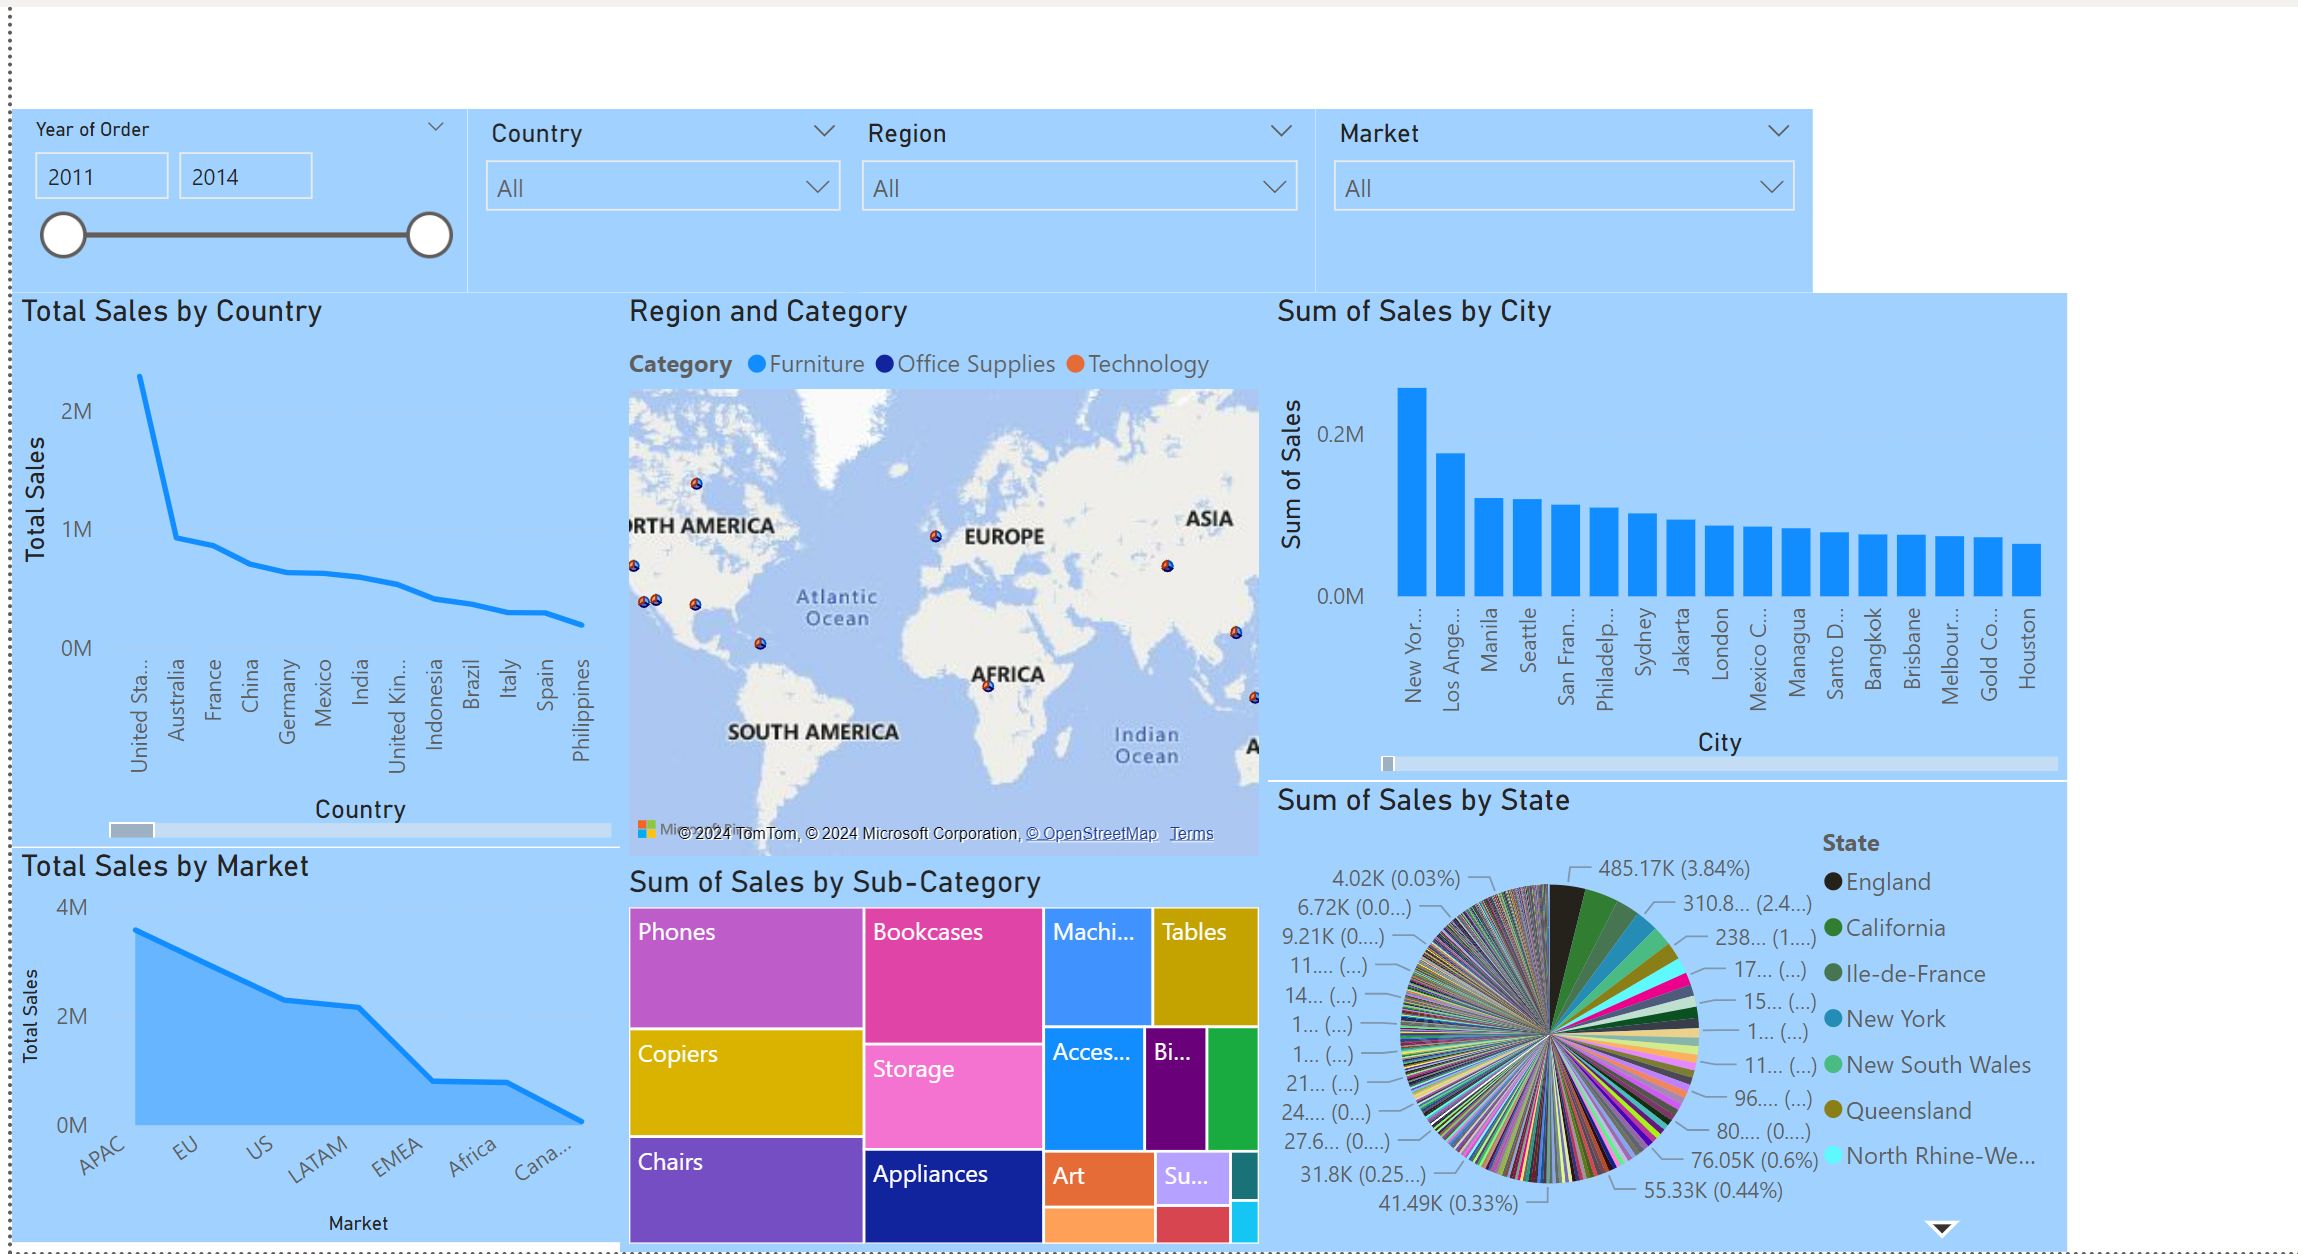

This screenshot's page, from the dashboard's own definition file:
{"tool":"powerbi","page":{"name":"Sales over city , state and market","canvas":[1280,720],"ordinal":1},"visuals":[{"type":"slicer","fields":{"Values":["Orders.Year of Order"]},"box":[0,86,253,102],"z":0},{"type":"slicer","fields":{"Values":["Orders.Region"]},"box":[462,86,262,102],"z":1000},{"type":"slicer","fields":{"Values":["Orders.Market"]},"box":[724,86,276,102],"z":2000},{"type":"slicer","fields":{"Values":["Orders.Country"]},"box":[253,86,217,102],"z":3000},{"type":"lineChart","fields":{"Category":["Orders.Country"],"Y":["Orders.Total Sales"]},"box":[0,188,338,307],"z":4000},{"type":"areaChart","fields":{"Category":["Orders.Market"],"Y":["Orders.Total Sales"]},"box":[0,495,338,219],"z":5000},{"type":"map","fields":{"Category":["Orders.Region"],"Series":["Orders.Category"]},"box":[338,188,360,317],"z":6000},{"type":"treemap","fields":{"Group":["Orders.Sub-Category"],"Values":["Sum(Orders.Sales)"]},"box":[338,504,360,216],"z":7000},{"type":"columnChart","fields":{"Category":["Orders.City"],"Y":["Sum(Orders.Sales)"]},"box":[698,188,444,270],"z":8000},{"type":"pieChart","fields":{"Category":["Orders.State"],"Y":["Sum(Orders.Sales)"]},"box":[698,459,444,261],"z":9000}]}

Visuals, with their boxes on the page's 1280x720 design canvas (x1, y1, x2, y2). These are canvas units, not pixel positions in the 2298x1254 screenshot, which may show the page scaled, cropped or inside an application window:
slicer - Orders.Year of Order: 0 86 253 188
slicer - Orders.Region: 462 86 724 188
slicer - Orders.Market: 724 86 1000 188
slicer - Orders.Country: 253 86 470 188
lineChart - Orders.Country x Orders.Total Sales: 0 188 338 495
areaChart - Orders.Market x Orders.Total Sales: 0 495 338 714
map - Orders.Region x Orders.Category: 338 188 698 505
treemap - Orders.Sub-Category x Sum(Orders.Sales): 338 504 698 720
columnChart - Orders.City x Sum(Orders.Sales): 698 188 1142 458
pieChart - Orders.State x Sum(Orders.Sales): 698 459 1142 720
